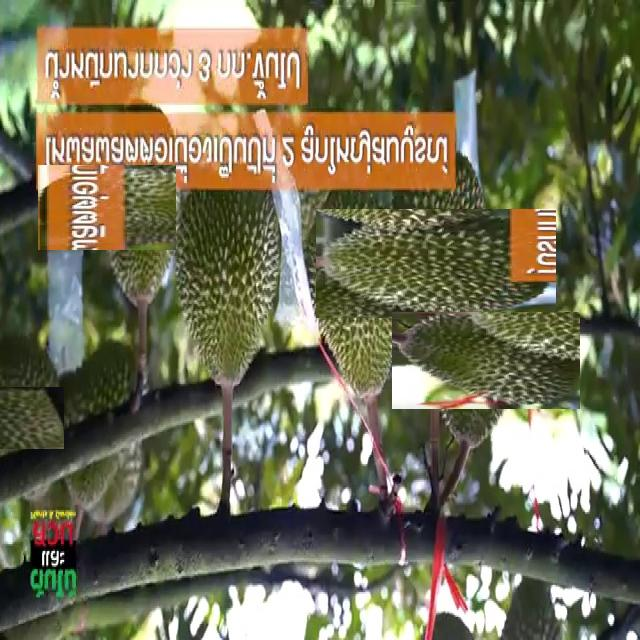durian: (349, 177, 524, 351), (176, 142, 284, 398), (303, 180, 410, 403), (68, 134, 215, 281), (415, 290, 557, 432), (64, 339, 146, 513), (0, 358, 90, 478)
